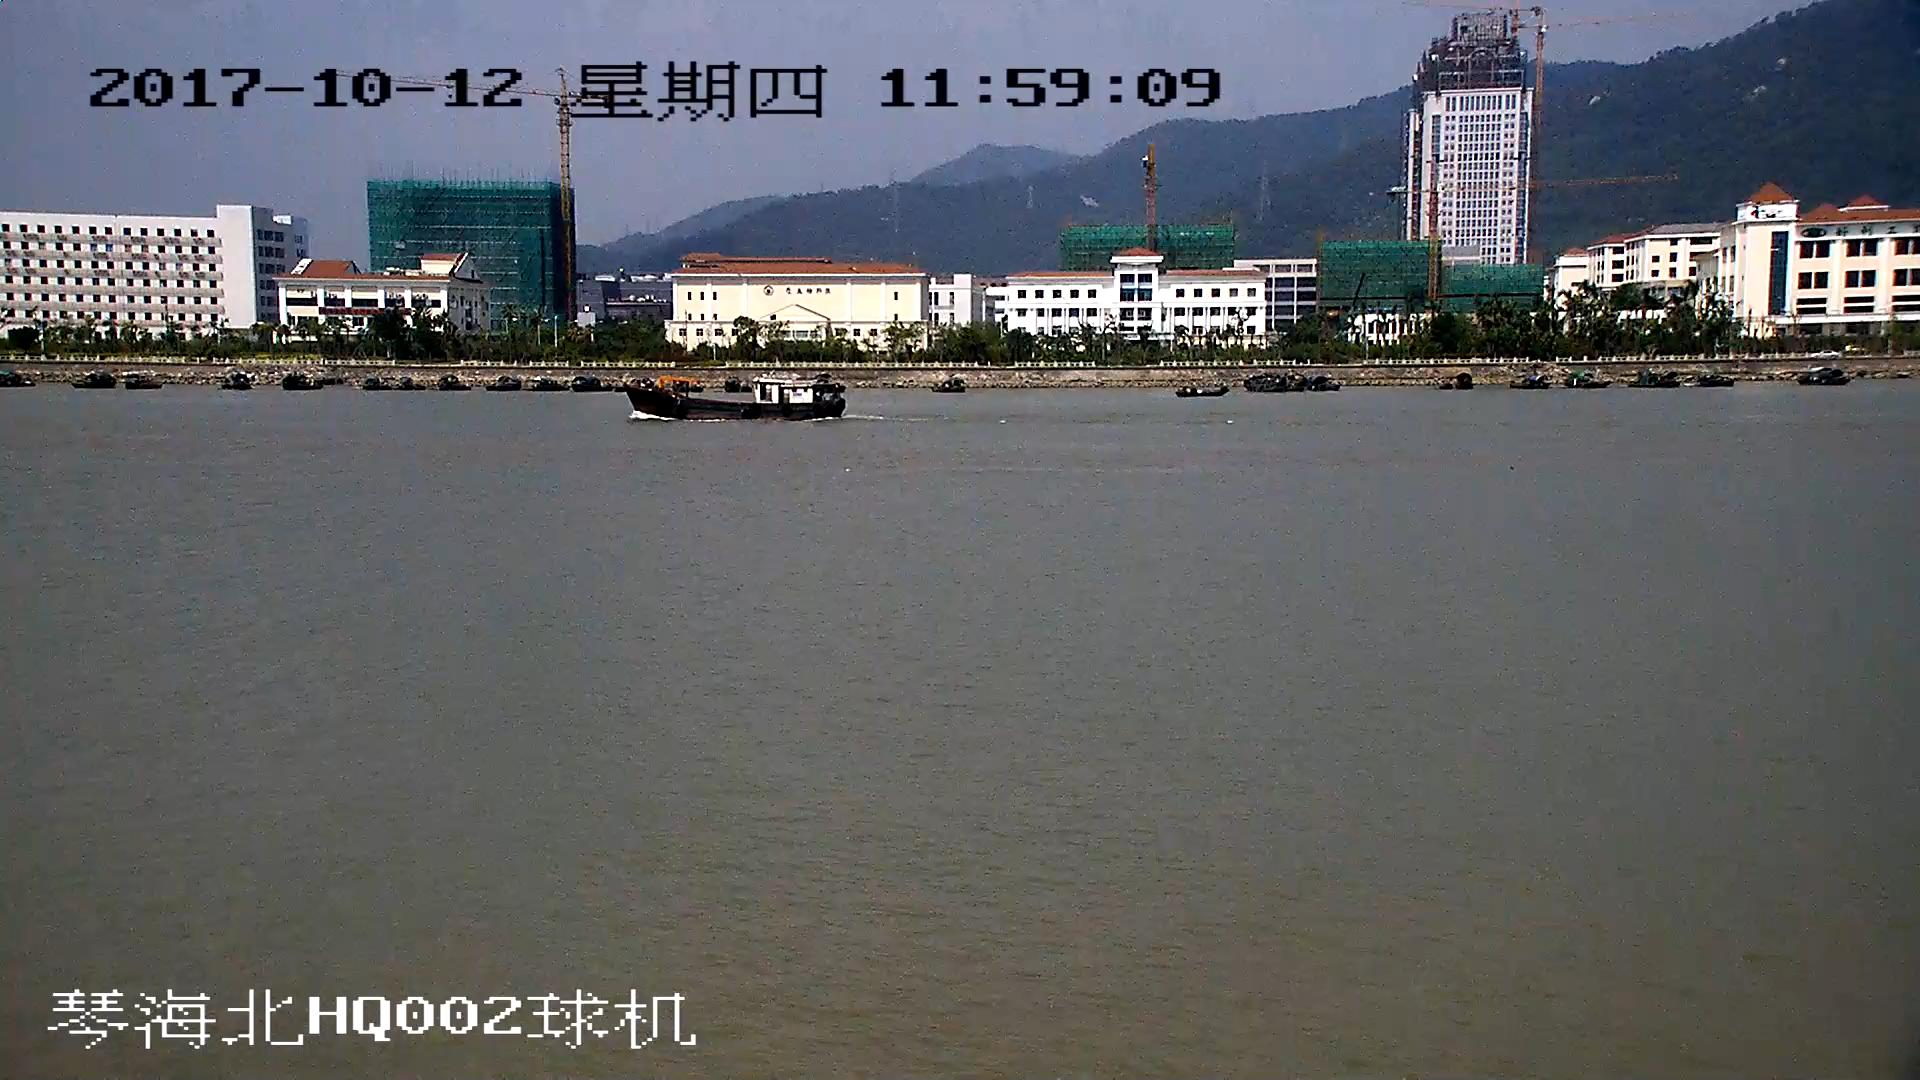fishing boat: (624, 377, 844, 419)
